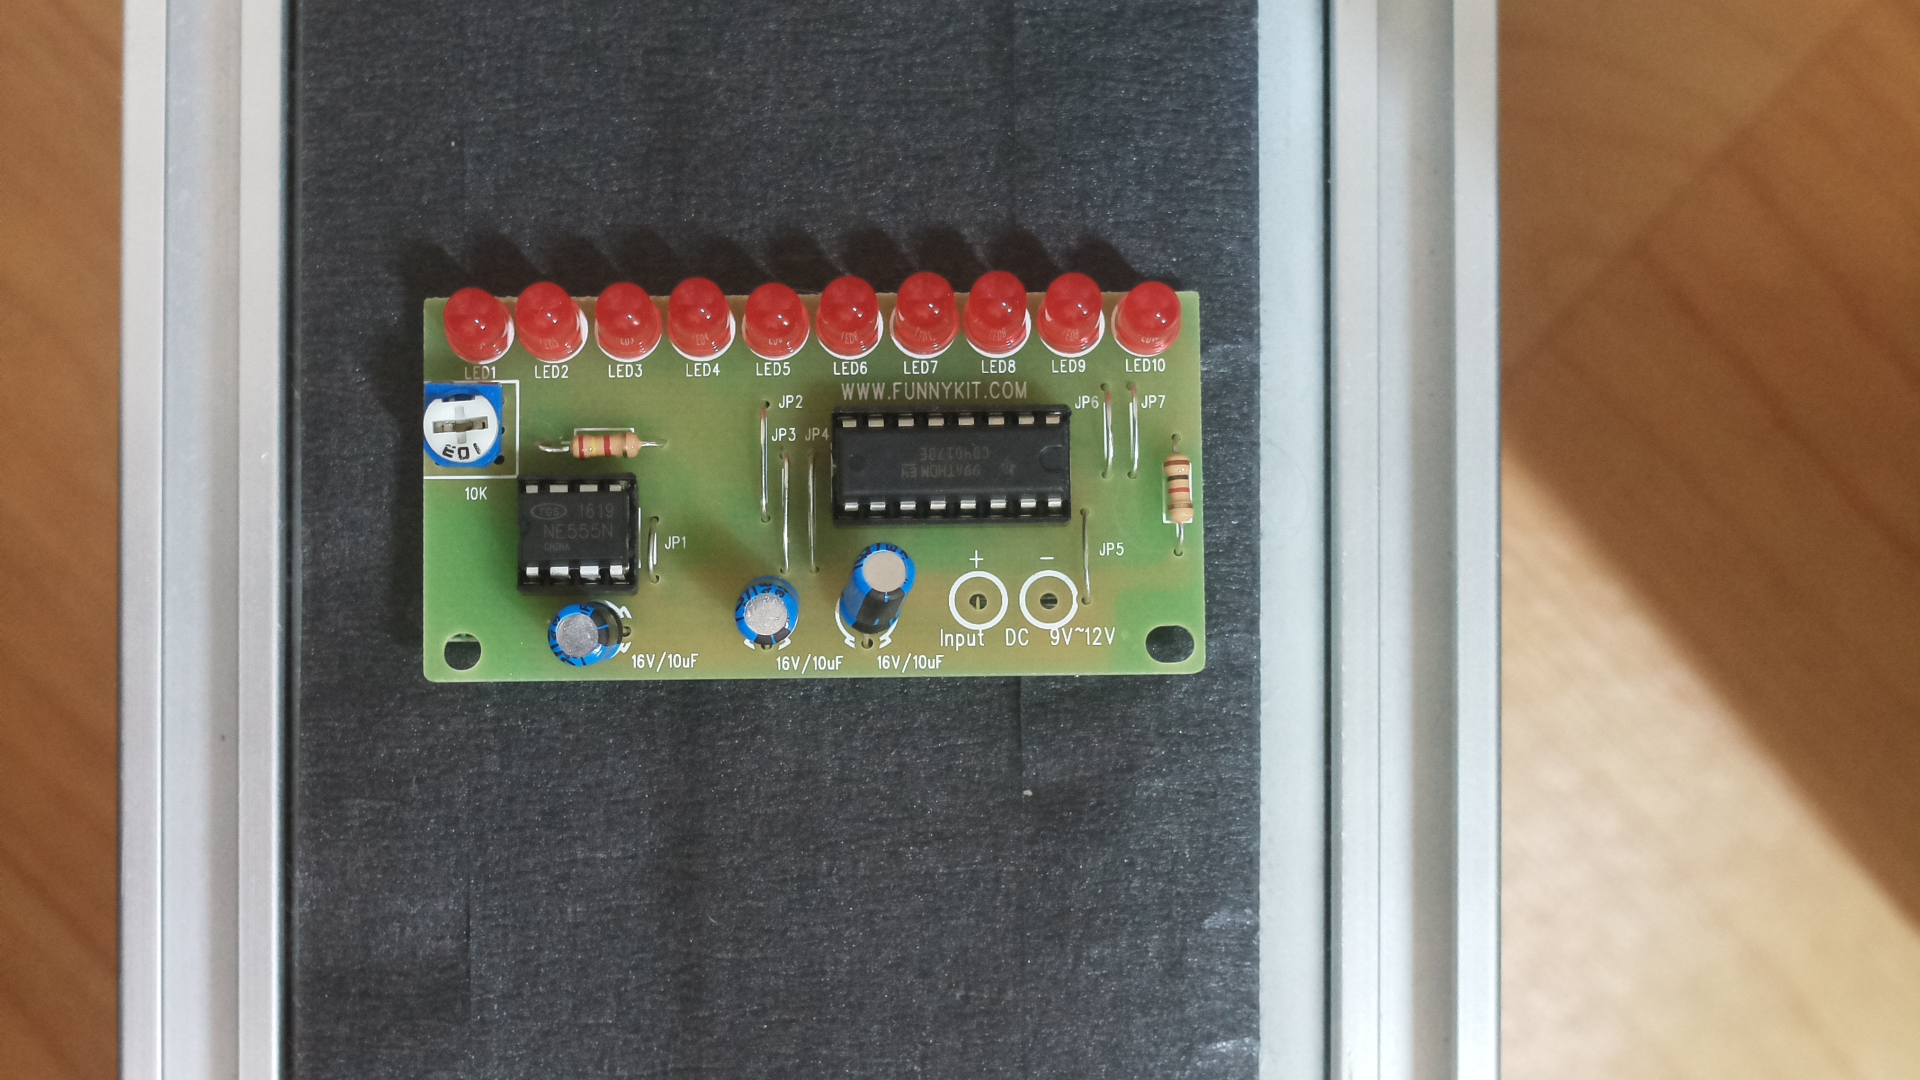B_Normal: (413, 260, 1233, 719)
